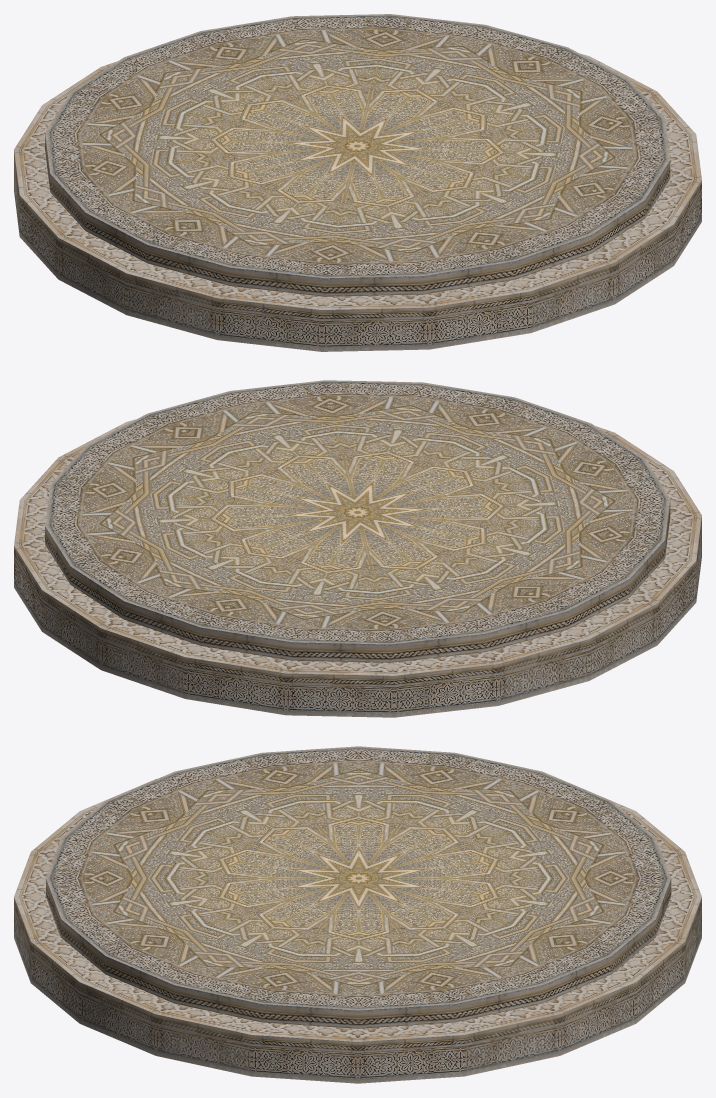
Rendered from yuanpan.FBX.
The picture shows the model from 3 angles, top to bottom: view 1: azimuth 30°, elevation 25°; view 2: azimuth 150°, elevation 25°; view 3: azimuth 270°, elevation 25°; orthographic projection.
Parts seen in each view (by area): view 1: yuanpan; view 2: yuanpan; view 3: yuanpan.
Boxes of the visible parts, left/top/right/bottom form: yuanpan: left=14, top=14, right=701, bottom=351; yuanpan: left=14, top=380, right=701, bottom=717; yuanpan: left=14, top=746, right=701, bottom=1083.
Bounding box in the file's own units: 3.52 × 0.3385 × 3.52.
